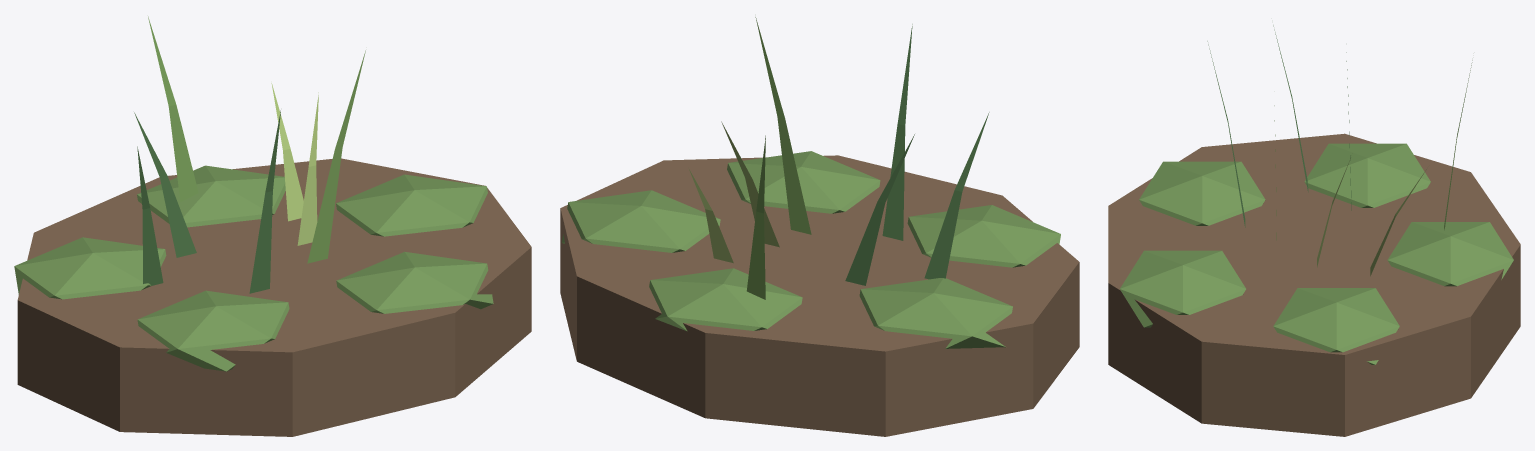
File: mdl_env_meadow_grass_b.glb
The picture shows the model from 3 angles, left to right: view 1: azimuth 30°, elevation 25°; view 2: azimuth 150°, elevation 25°; view 3: azimuth 270°, elevation 25°; orthographic projection. The views are drawn at different scales.
Visible parts, largest first — view 1: Loam base.001, Moss cushion.008, Moss cushion.009, Moss cushion.005, Moss cushion.007, Moss cushion.006, Grass blade.009, Grass blade.011, Grass blade.010, Grass blade.013, Grass blade.008, Grass blade.012 (+1 smaller); view 2: Loam base.001, Moss cushion.007, Moss cushion.005, Moss cushion.006, Moss cushion.008, Moss cushion.009, Grass blade.009, Grass blade.011, Grass blade.008, Grass blade.013, Grass blade.010, Grass blade.007 (+1 smaller); view 3: Loam base.001, Moss cushion.009, Moss cushion.005, Moss cushion.006, Moss cushion.007, Moss cushion.008.
Boxes of the visible parts, x1=… form: Loam base.001: x1=17, y1=158, x2=531, y2=436; Moss cushion.008: x1=137, y1=290, x2=289, y2=371; Moss cushion.009: x1=336, y1=251, x2=493, y2=313; Moss cushion.005: x1=336, y1=174, x2=487, y2=236; Moss cushion.007: x1=14, y1=237, x2=166, y2=299; Moss cushion.006: x1=137, y1=165, x2=285, y2=227; Grass blade.009: x1=307, y1=50, x2=365, y2=263; Grass blade.011: x1=249, y1=110, x2=280, y2=293; Grass blade.010: x1=148, y1=16, x2=198, y2=201; Grass blade.013: x1=134, y1=112, x2=196, y2=257; Grass blade.008: x1=137, y1=146, x2=163, y2=285; Grass blade.012: x1=297, y1=92, x2=318, y2=245; Loam base.001: x1=560, y1=155, x2=1079, y2=436; Moss cushion.007: x1=859, y1=278, x2=1012, y2=348; Moss cushion.005: x1=562, y1=190, x2=720, y2=252; Moss cushion.006: x1=649, y1=268, x2=802, y2=331; Moss cushion.008: x1=907, y1=205, x2=1060, y2=267; Moss cushion.009: x1=727, y1=151, x2=880, y2=213; Grass blade.009: x1=755, y1=17, x2=811, y2=234; Grass blade.011: x1=882, y1=24, x2=912, y2=240; Grass blade.008: x1=924, y1=112, x2=989, y2=279; Grass blade.013: x1=845, y1=134, x2=914, y2=285; Grass blade.010: x1=746, y1=135, x2=765, y2=299; Grass blade.007: x1=689, y1=169, x2=733, y2=263; Loam base.001: x1=1108, y1=133, x2=1520, y2=436; Moss cushion.009: x1=1120, y1=250, x2=1245, y2=327; Moss cushion.005: x1=1273, y1=288, x2=1399, y2=364; Moss cushion.006: x1=1387, y1=222, x2=1513, y2=286; Moss cushion.007: x1=1304, y1=143, x2=1430, y2=207; Moss cushion.008: x1=1139, y1=161, x2=1265, y2=225.
Size of the model in its own units: 1.97 by 1.16 by 1.55.
